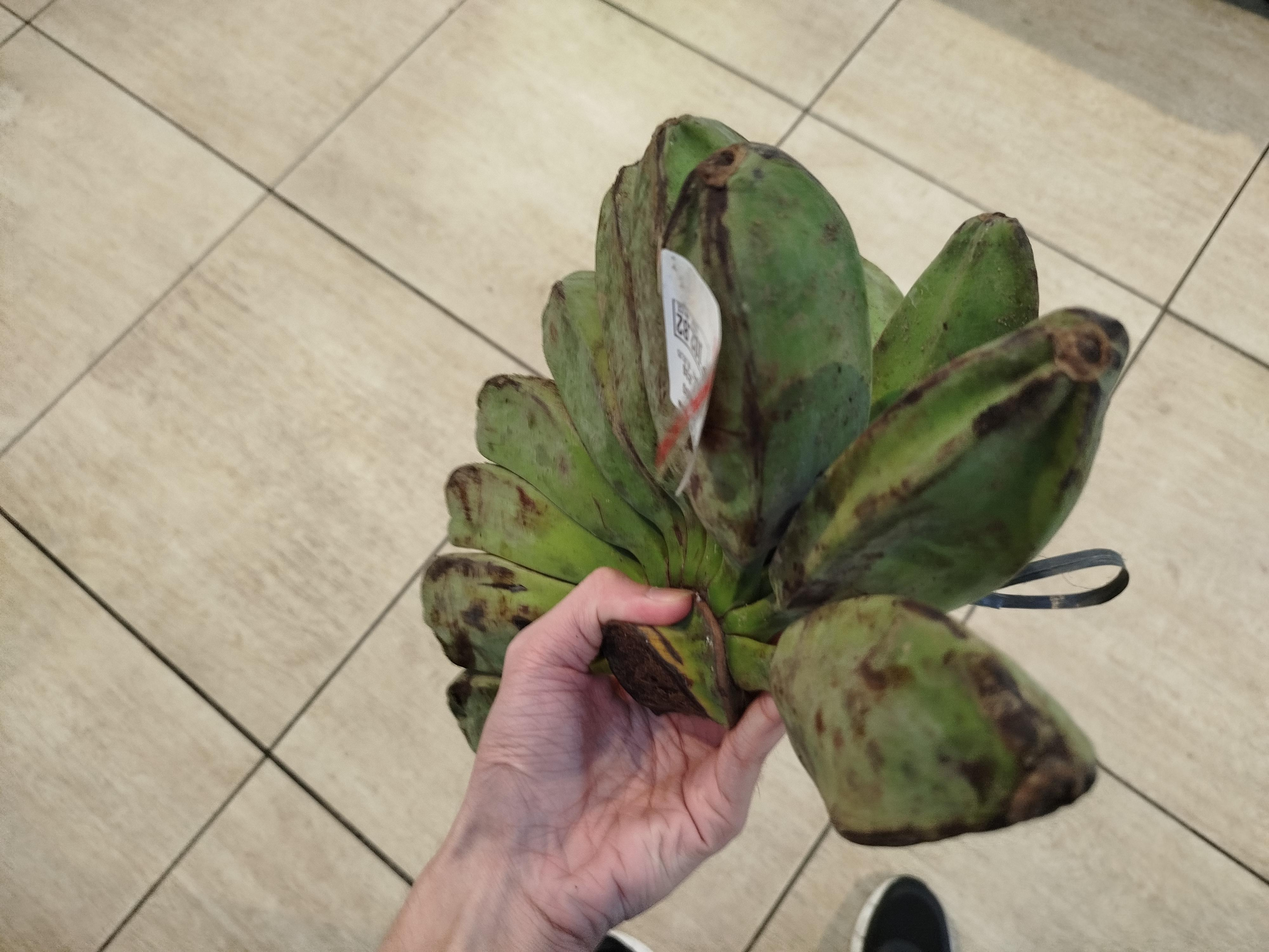underripe: (423, 116, 1129, 845)
